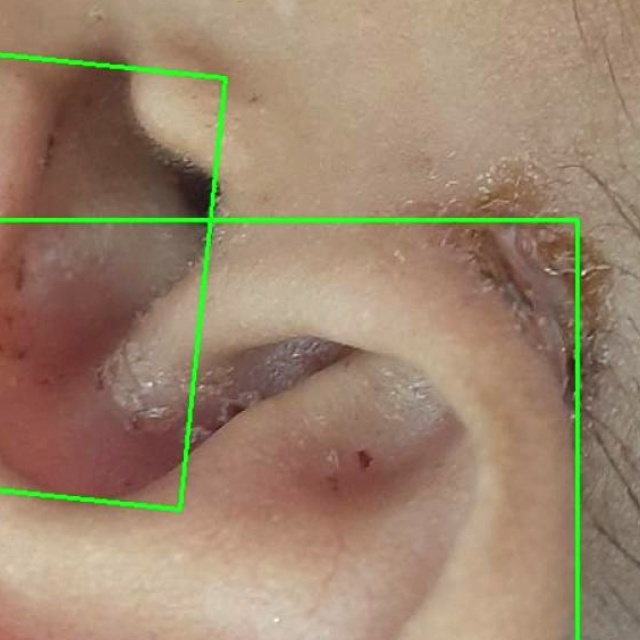Eczema: (0, 220, 577, 639), (0, 53, 227, 509)
